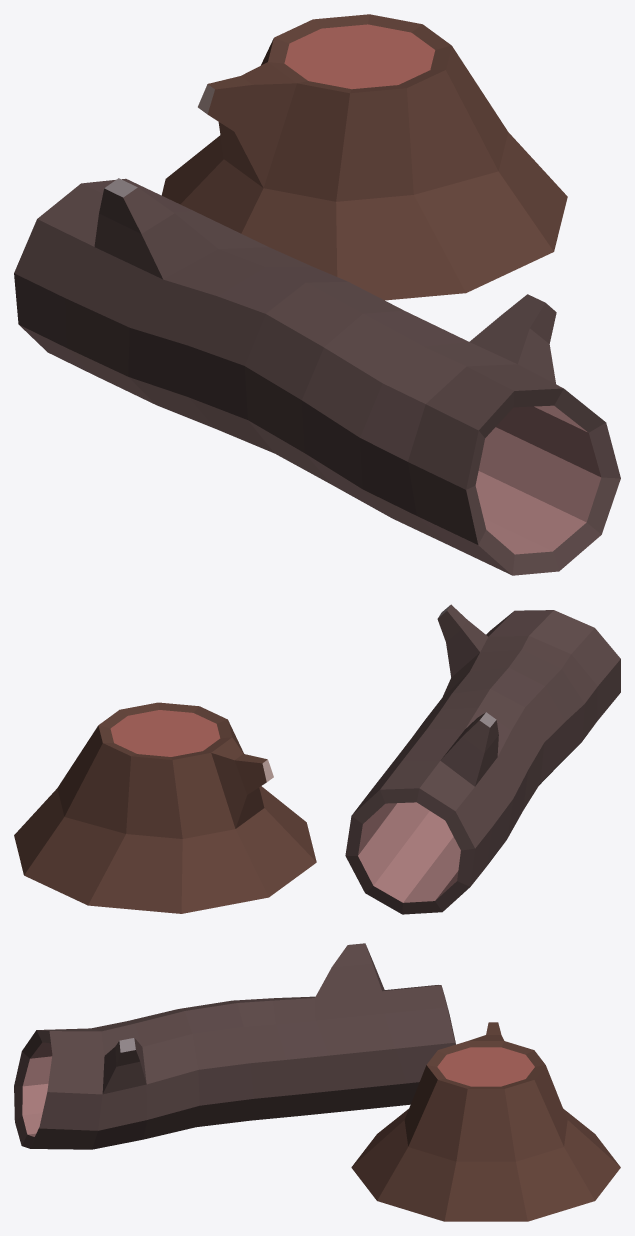
The model's file is trunk.fbx.
The picture shows the model from 3 angles, top to bottom: view 1: azimuth 30°, elevation 25°; view 2: azimuth 150°, elevation 25°; view 3: azimuth 270°, elevation 25°; orthographic projection. The views are drawn at different scales.
Parts seen in each view (by area): view 1: Cylinder.001, Cylinder; view 2: Cylinder.001, Cylinder; view 3: Cylinder.001, Cylinder.
Part boxes in pixels (x1,y1,x2,y2): Cylinder.001: [14, 178, 620, 575]; Cylinder: [161, 14, 567, 300]; Cylinder.001: [345, 604, 620, 914]; Cylinder: [14, 702, 316, 913]; Cylinder.001: [14, 943, 455, 1149]; Cylinder: [351, 1022, 620, 1221].
Bounding box in the file's own units: 305 × 125 × 450.
